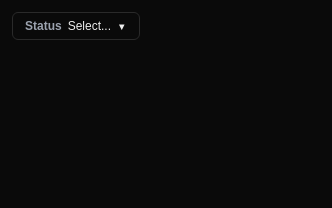
it: FilterDropdown › Keyboard Navigation › should close menu on Escape key
This screenshot has width=332, height=208.
Click the button.
click(76, 26)  # box 12,12 -> 140,40
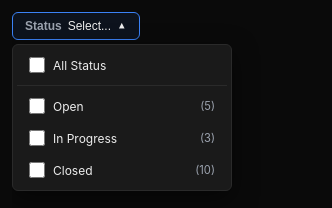
Check: the text "All Status" is shown, box 53,58 -> 106,72
Press Escape in the button, box 12,12 -> 140,40
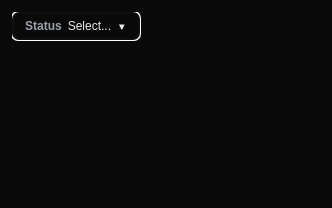
Check: the option "All Status" is gone
